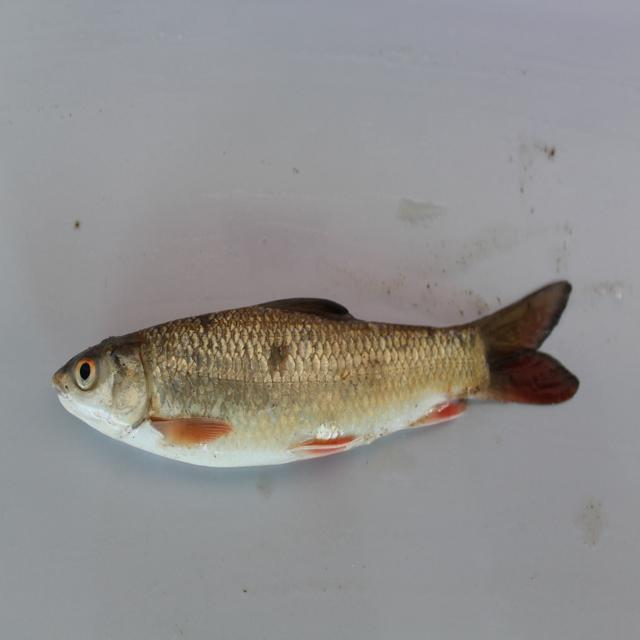Mori: (47, 254, 625, 475)
